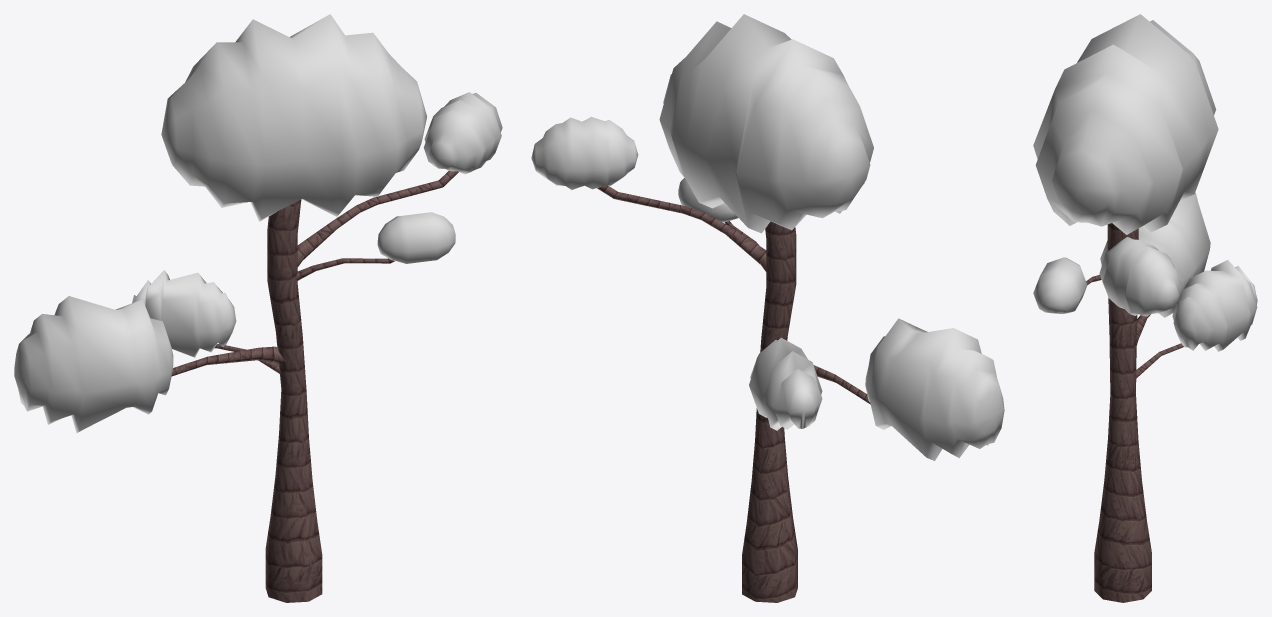
Rendered from Veg_Tree_03_Art.fbx.
3 views of the same model, side by side, from view 1: azimuth 30°, elevation 25°; view 2: azimuth 150°, elevation 25°; view 3: azimuth 270°, elevation 25° (orthographic). The views are drawn at different scales.
Visible parts, largest first — view 1: Veg_Tree_03; view 2: Veg_Tree_03; view 3: Veg_Tree_03.
Boxes of the visible parts, x1,y1,x2,y2 form: Veg_Tree_03: [14, 14, 502, 602]; Veg_Tree_03: [531, 14, 1004, 602]; Veg_Tree_03: [1033, 14, 1257, 602].
Size of what is drawn, in the model's own units: 12.1 by 5.06 by 13.97.
